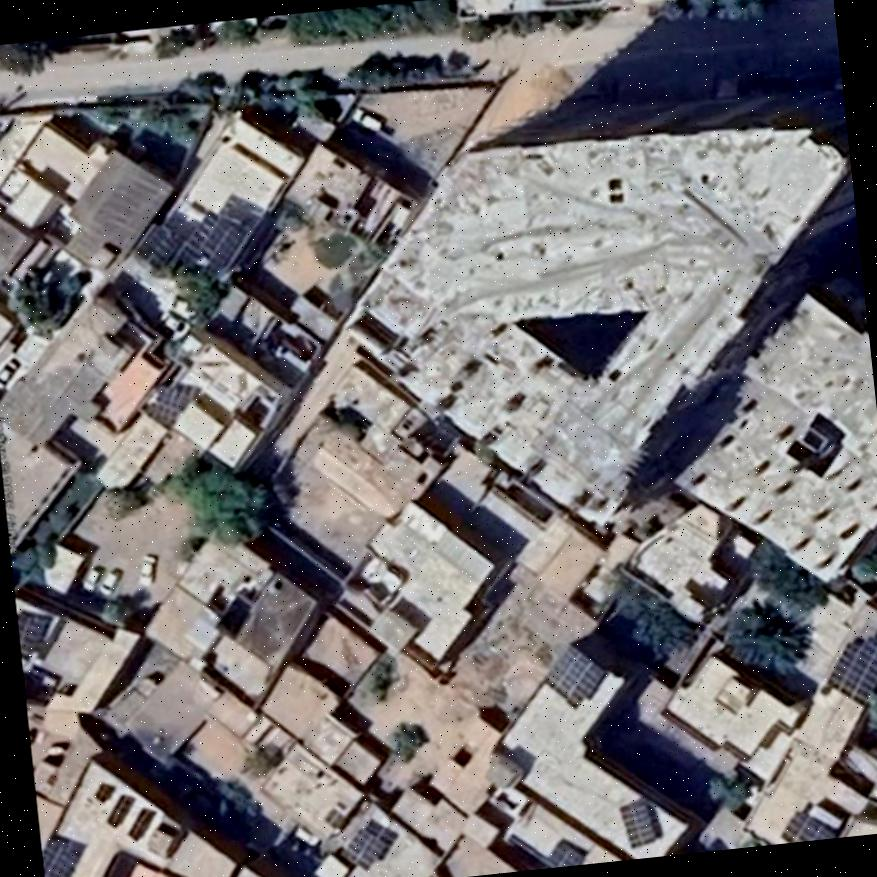Solarpanel: (828, 629, 877, 706), (183, 210, 242, 269), (545, 645, 604, 702), (133, 225, 178, 271), (620, 797, 657, 847), (343, 825, 384, 866), (783, 809, 836, 840), (20, 608, 49, 655), (44, 849, 78, 877)
